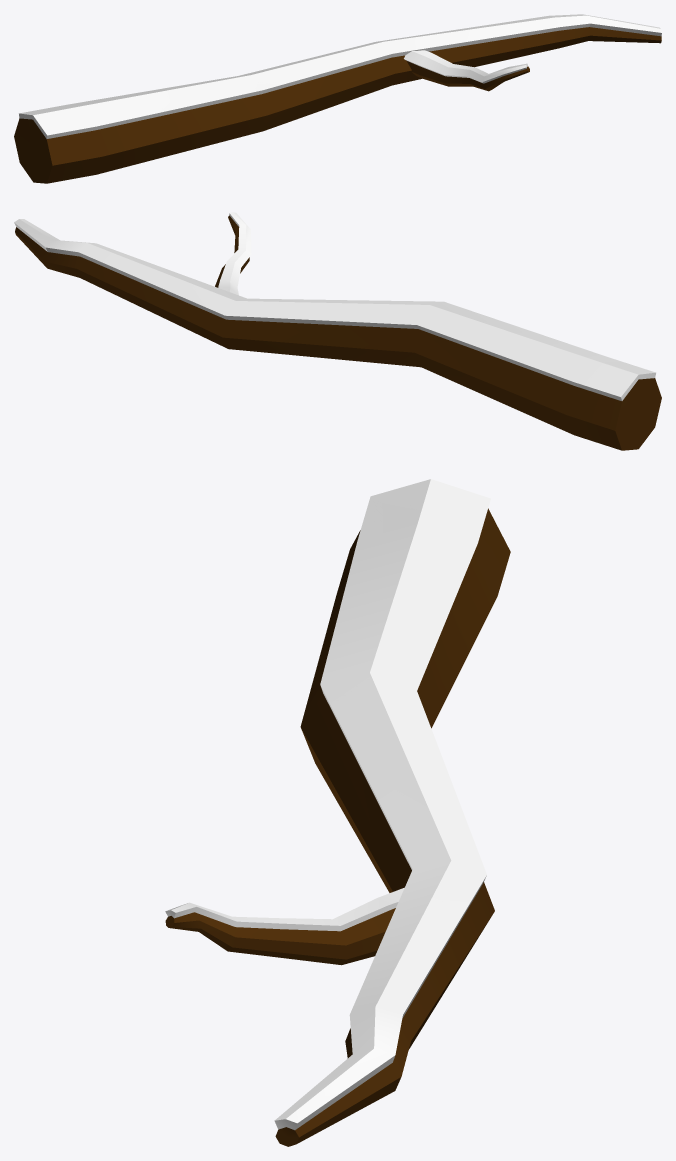
Rendered from christmasDeadTreeBranch.dae.
3 renders of one model, top to bottom at view 1: azimuth 30°, elevation 25°; view 2: azimuth 150°, elevation 25°; view 3: azimuth 270°, elevation 25°, orthographic. The views are drawn at different scales.
Parts seen in each view (by area): view 1: Dead_branch; view 2: Dead_branch; view 3: Dead_branch.
Part boxes in pixels (x1,y1,x2,y2): Dead_branch: (14,14,661,183); Dead_branch: (14,212,661,450); Dead_branch: (165,479,510,1146).
Size of the model in its own units: 0.0937 by 0.0236 by 0.0104.
